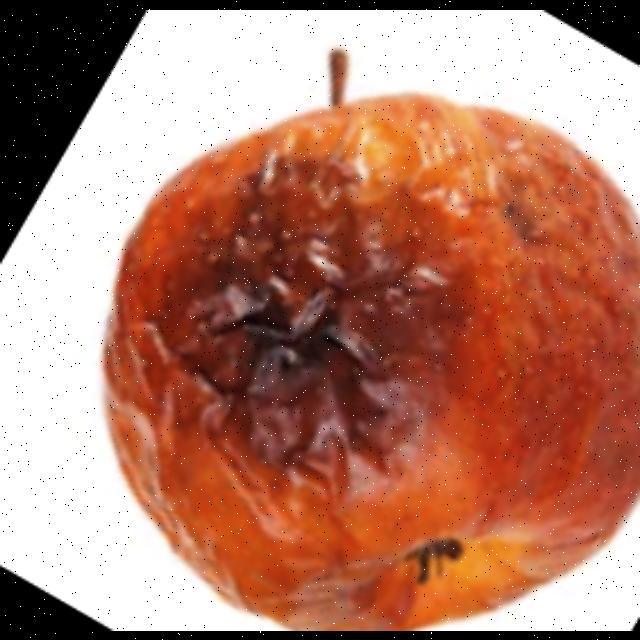Apel Tidak Segar: (88, 80, 640, 630)
